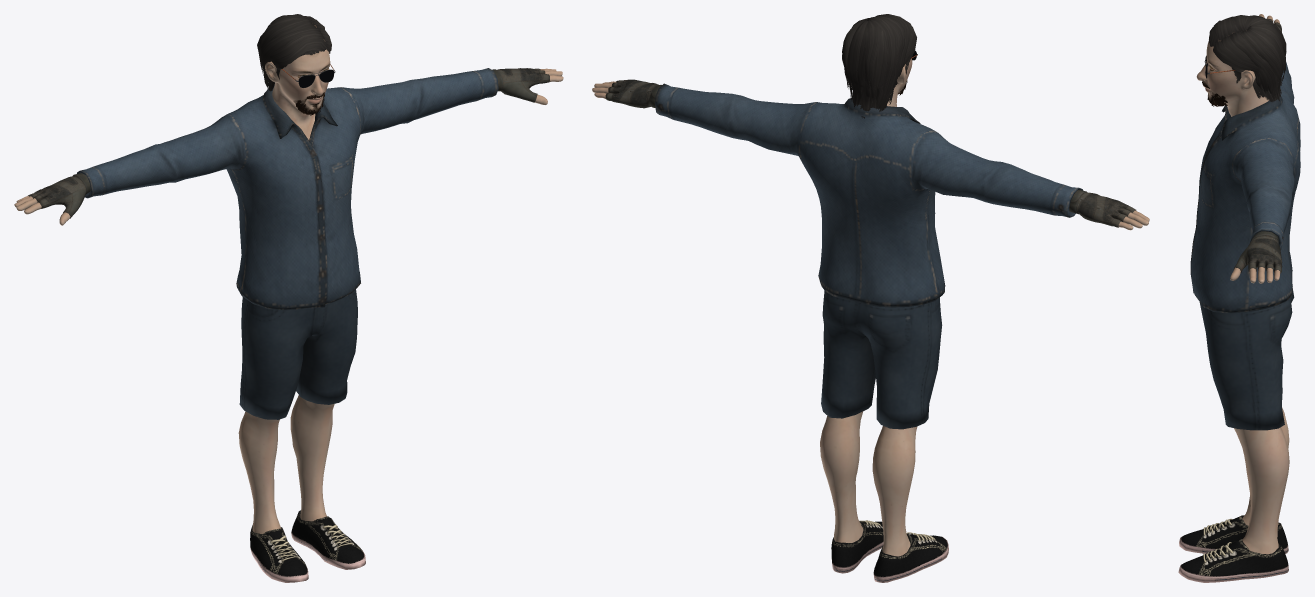
The model's file is Player.obj.
The picture shows the model from 3 angles, left to right: view 1: azimuth 30°, elevation 25°; view 2: azimuth 150°, elevation 25°; view 3: azimuth 270°, elevation 25°; orthographic projection.
Parts seen in each view (by area): view 1: Tops, Bottoms, Body, Shoes, Hair, Gloves; view 2: Tops, Bottoms, Body, Hair, Shoes, Gloves; view 3: Tops, Bottoms, Body, Shoes, Hair, Gloves, Beards.
Part boxes in pixels (x1=…): Tops: x1=77, y1=68, x2=498, y2=310; Bottoms: x1=239, y1=289, x2=357, y2=419; Body: x1=14, y1=25, x2=563, y2=533; Shoes: x1=250, y1=510, x2=365, y2=582; Hair: x1=257, y1=14, x2=331, y2=91; Gloves: x1=28, y1=68, x2=549, y2=218; Tops: x1=655, y1=83, x2=1082, y2=307; Bottoms: x1=821, y1=290, x2=942, y2=429; Body: x1=592, y1=58, x2=1149, y2=556; Hair: x1=842, y1=14, x2=916, y2=118; Shoes: x1=831, y1=520, x2=948, y2=582; Gloves: x1=605, y1=79, x2=1136, y2=227; Tops: x1=1190, y1=62, x2=1300, y2=313; Bottoms: x1=1199, y1=288, x2=1294, y2=430; Body: x1=1196, y1=14, x2=1289, y2=554; Shoes: x1=1178, y1=515, x2=1288, y2=582; Hair: x1=1208, y1=15, x2=1286, y2=102; Gloves: x1=1233, y1=19, x2=1282, y2=273; Beards: x1=1207, y1=93, x2=1227, y2=106.
Size of the model in its own units: 194 by 182 by 37.16.
1 material, 1 textured.
